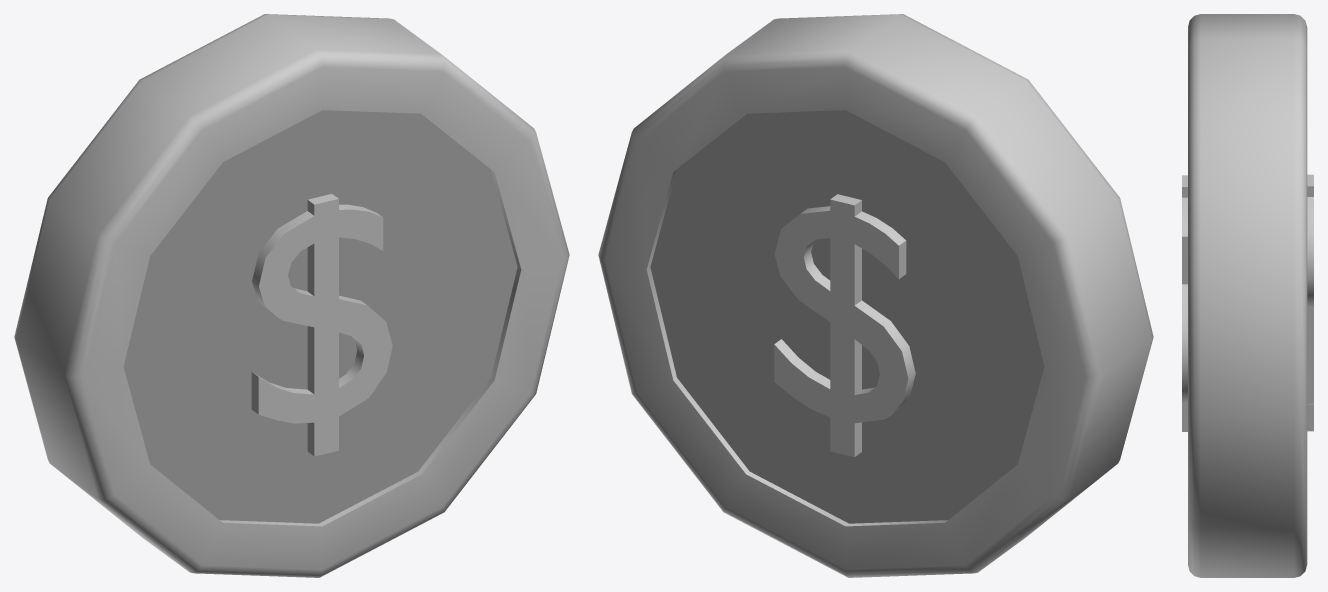
File: Money Silver.fbx
3 views of the same model, side by side, from view 1: azimuth 30°, elevation 25°; view 2: azimuth 150°, elevation 25°; view 3: azimuth 270°, elevation 25° (orthographic). The views are drawn at different scales.
Visible parts, largest first — view 1: Money Silver; view 2: Money Silver; view 3: Money Silver.
Boxes of the visible parts, box(x1,y1,x2,y2) form: Money Silver: box(14, 14, 569, 577); Money Silver: box(598, 14, 1153, 577); Money Silver: box(1182, 14, 1313, 577).
Size of the model in its own units: 0.2371 by 0.2371 by 0.0552.
